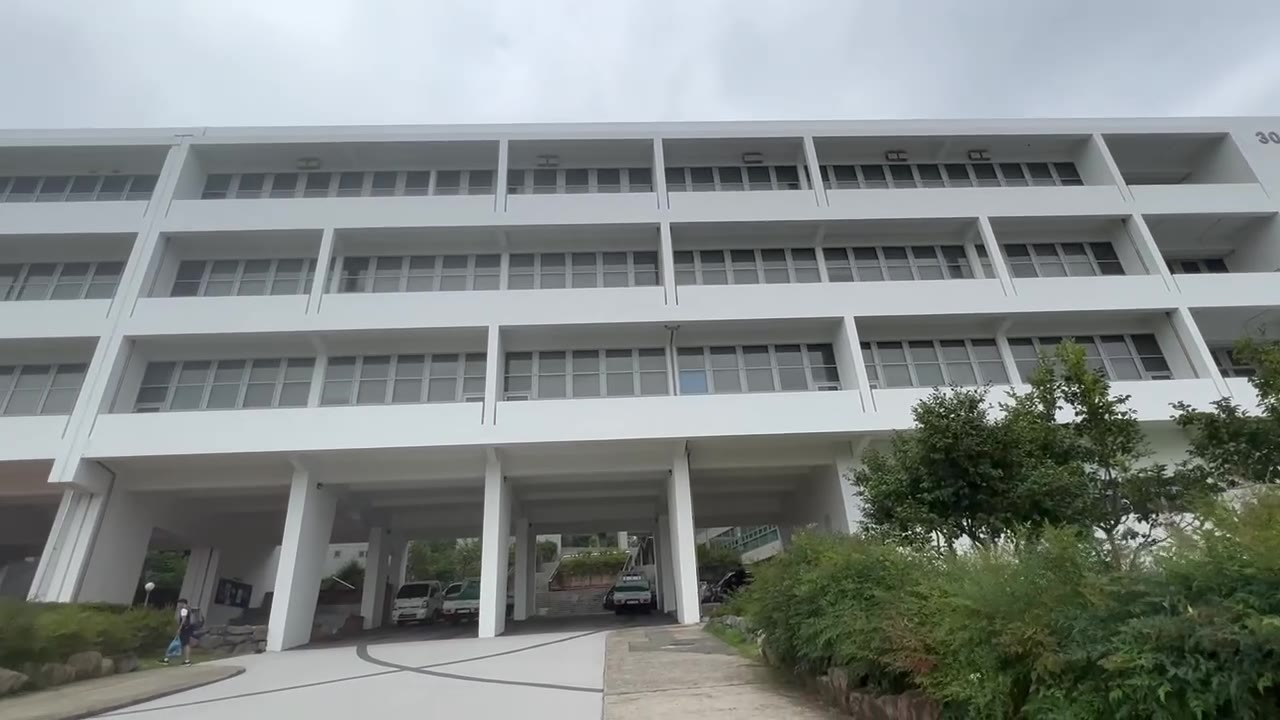low: (28, 98, 876, 457)
